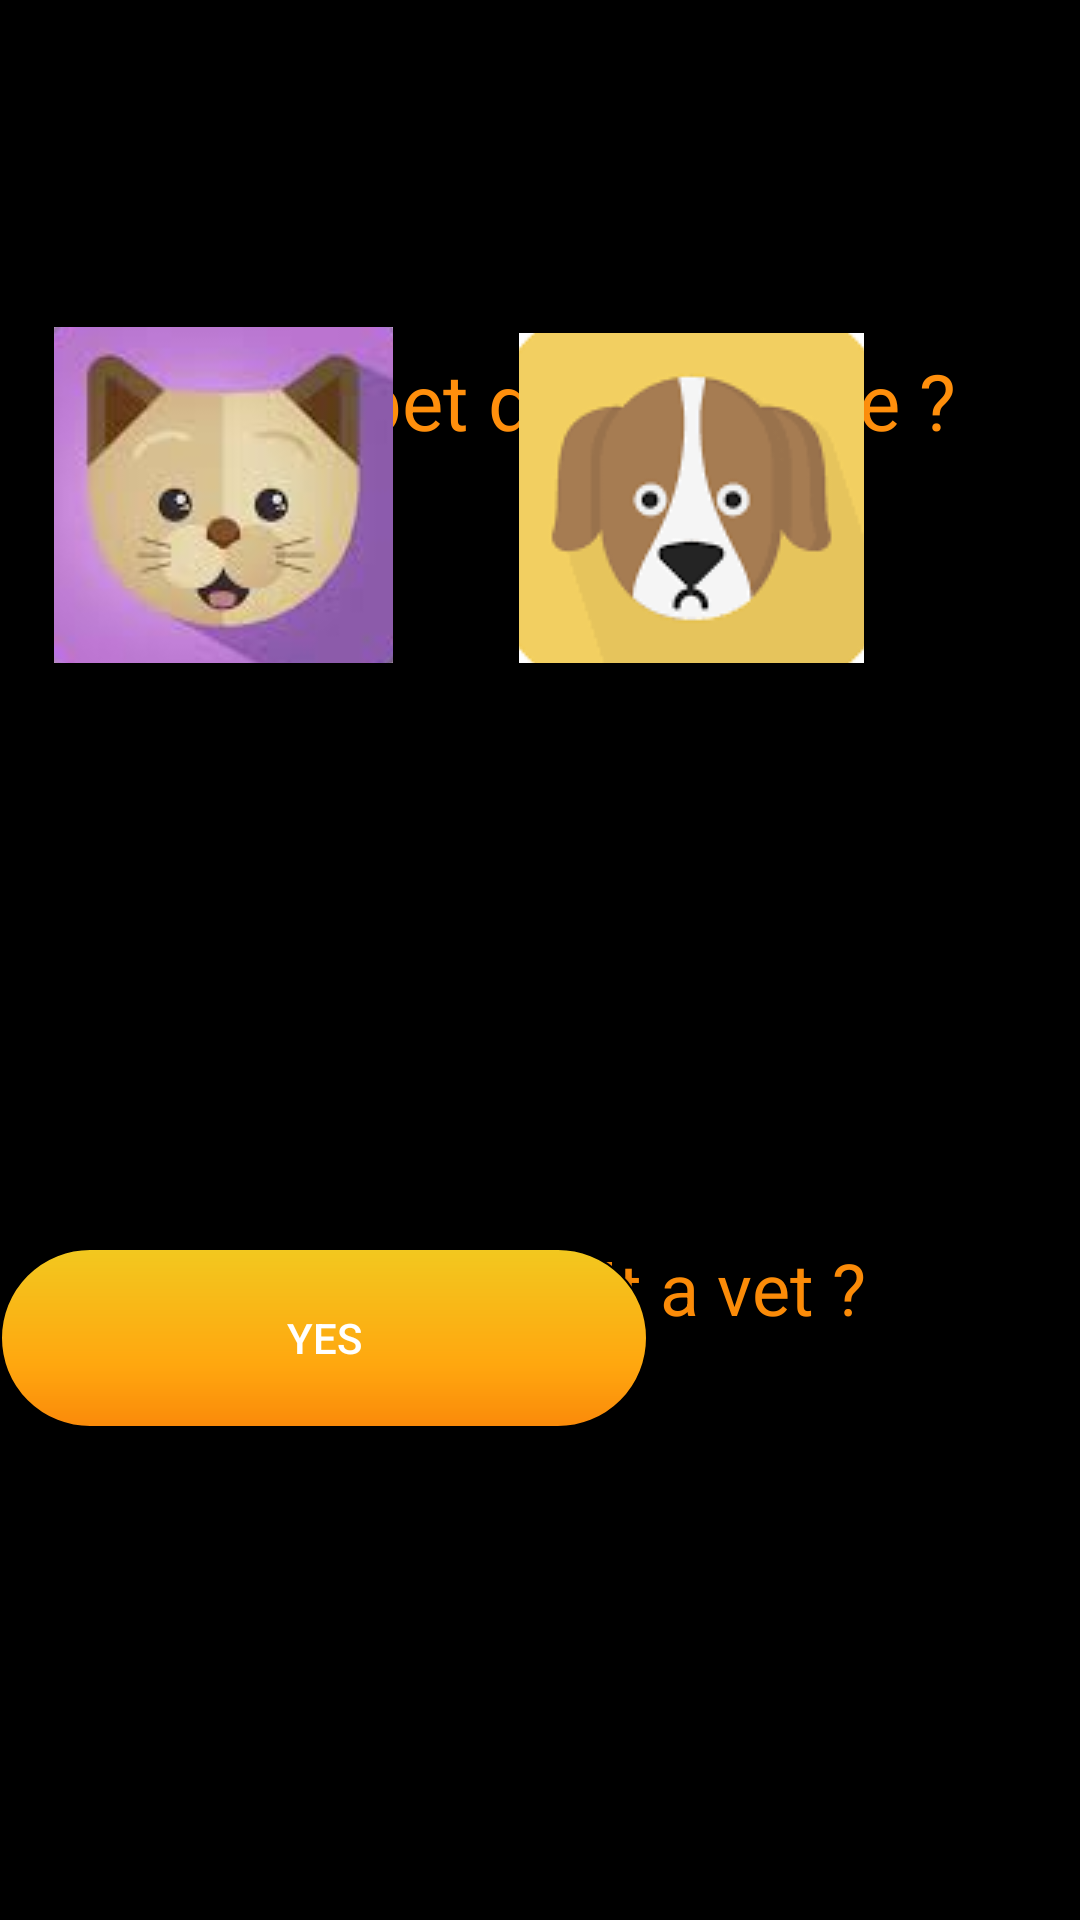

Icons on this 1080w x 1920h Android screen, each with the point to tap as point (x, y):
cat: point (223, 495)
dog: point (691, 498)
